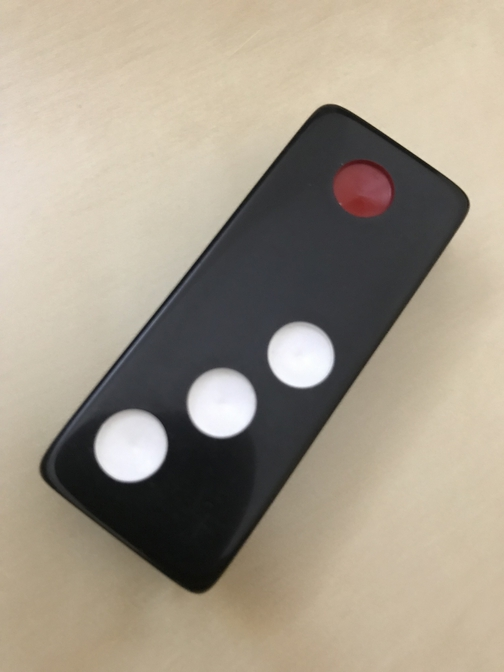goose: (40, 104, 471, 596)
